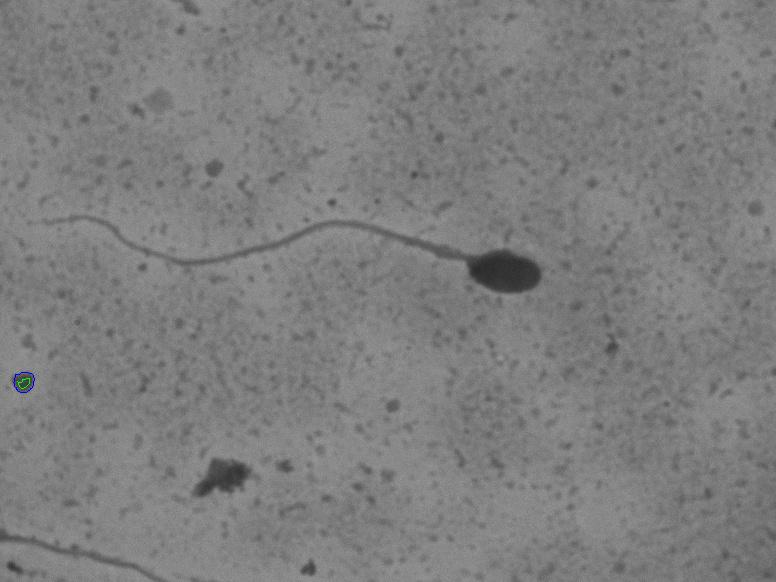Abnormal: (32, 169, 573, 322)
